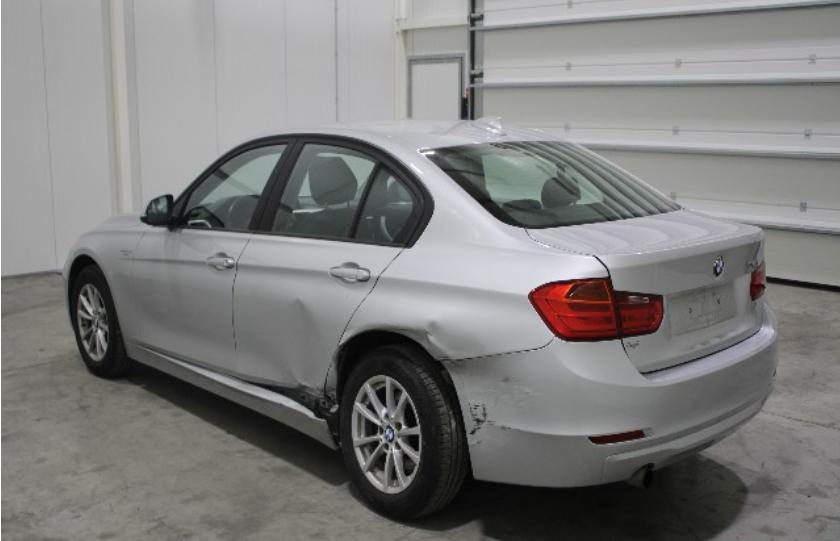Back-bumper: (440, 302, 780, 487)
Back-door: (232, 136, 425, 397)
Back-wheel: (340, 342, 470, 519)
Back-window: (270, 143, 377, 236), (352, 162, 419, 243)
Back-windshield: (419, 141, 682, 228)
Fender: (63, 223, 154, 346)
Front-door: (132, 137, 298, 378)
Front-wheel: (72, 263, 143, 377)
Front-window: (182, 144, 287, 229)
Hood: (88, 212, 145, 230)
Mirror: (140, 194, 182, 227)
Quarter-panel: (325, 220, 610, 412)
Rocker-panel: (123, 340, 342, 451)
Roof: (293, 116, 572, 149)
Tail-light: (528, 277, 622, 342), (614, 291, 664, 338), (750, 257, 766, 301)
Trunk: (525, 209, 766, 373)
